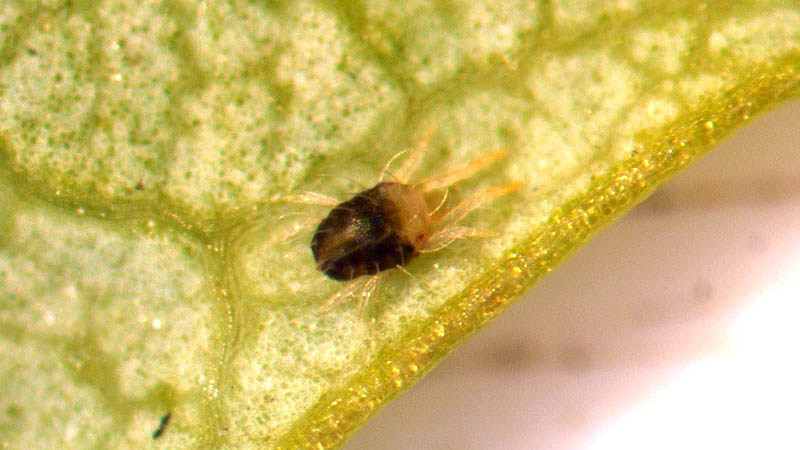Mites: (301, 116, 545, 304)
